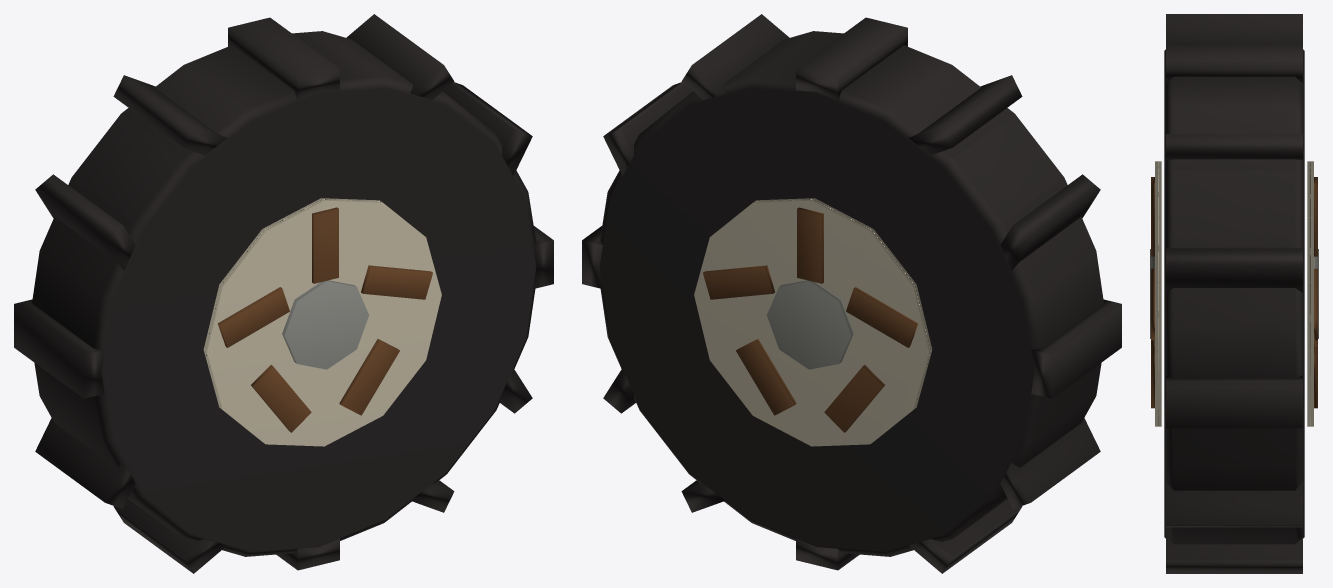
The model's file is wheel_hauler.glb.
3 views of the same model, side by side, from view 1: azimuth 30°, elevation 25°; view 2: azimuth 150°, elevation 25°; view 3: azimuth 270°, elevation 25° (orthographic).
Visible parts, largest first — view 1: wheel_hauler; view 2: wheel_hauler; view 3: wheel_hauler.
Boxes of the visible parts, box(x1,y1,x2,y2) form: wheel_hauler: box(14, 14, 553, 573); wheel_hauler: box(582, 14, 1121, 573); wheel_hauler: box(1150, 14, 1318, 573).
Bounding box in the file's own units: 1.12 × 1.12 × 0.3548.
